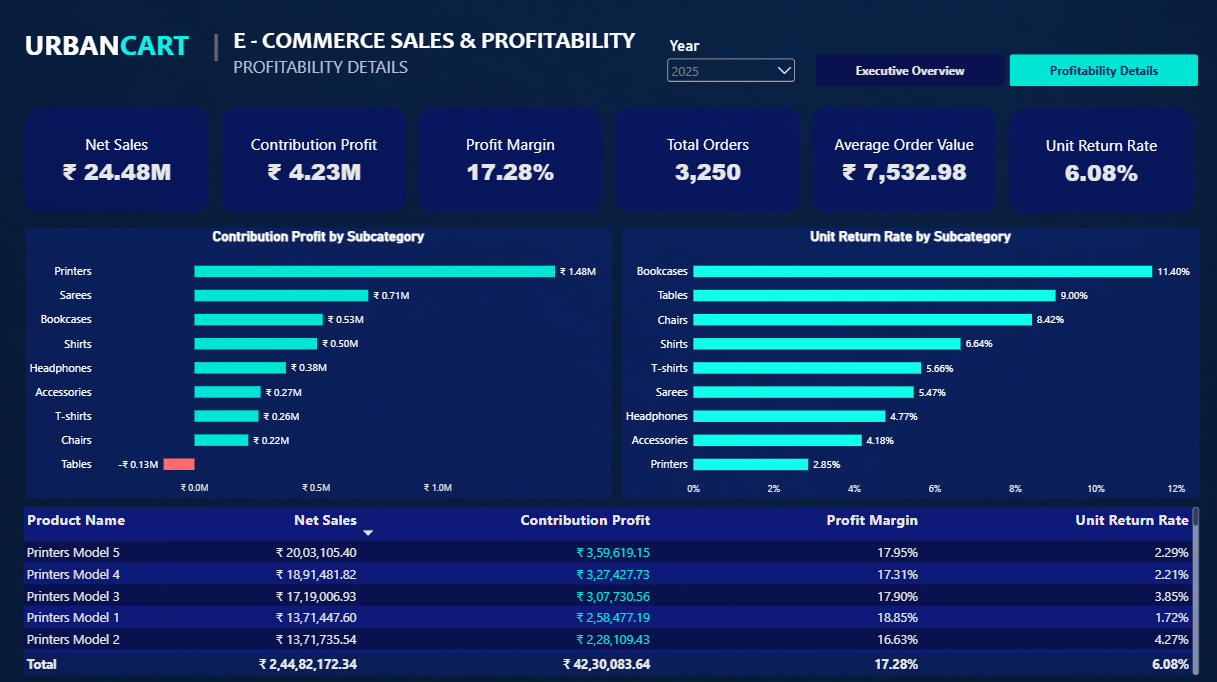

The page's visual inventory and layout, read from the dashboard file:
{"tool":"powerbi","page":{"name":"Profitability Details","canvas":[1920,1080],"ordinal":1},"visuals":[{"type":"textbox","box":[371.1,42.2,928.9,86.7],"z":0},{"type":"textbox","box":[42.2,42.2,362.2,128.9],"z":1000},{"type":"textbox","box":[370.9,89.1,400,81.8],"z":2000},{"type":"slicer","fields":{"Values":["Months.Year"]},"box":[1046.7,60,208.9,80],"z":3000},{"type":"cardVisual","fields":{"Data":["Sales.Net Sales"]},"box":[41.7,170.8,291.1,166.7],"z":4000},{"type":"cardVisual","fields":{"Data":["Sales.Contribution Profit"]},"box":[350.4,170.8,291.1,166.7],"z":5000},{"type":"cardVisual","fields":{"Data":["Sales.Profit Margin"]},"box":[659.2,170.8,291.1,166.7],"z":6000},{"type":"cardVisual","fields":{"Data":["Sales.Total Orders"]},"box":[967.9,170.8,291.1,166.7],"z":7000},{"type":"cardVisual","fields":{"Data":["Sales.Average Order Value"]},"box":[1276.7,170.8,291.1,166.7],"z":8000},{"type":"cardVisual","fields":{"Data":["Sales.Unit Return Rate"]},"box":[1587,172.9,291.1,166.7],"z":9000},{"type":"clusteredBarChart","fields":{"Category":["Products.Subcategory"],"Y":["Sales.Contribution Profit"]},"box":[45.5,360,918.2,423.6],"z":10000},{"type":"clusteredBarChart","title":"Unit Return Rate by Subcategory","fields":{"Category":["Products.Subcategory"],"Y":["Sales.Unit Return Rate"]},"box":[980,360,905.7,424],"z":11000},{"type":"tableEx","fields":{"Values":["Products.ProductName","Sales.Net Sales","Sales.Contribution Profit","Sales.Profit Margin","Sales.Unit Return Rate"]},"box":[41.8,798.2,1843.6,263.6],"z":12000},{"type":"pageNavigator","box":[1284.8,89.1,600,50],"z":13000}]}

Visuals, with their boxes in screenshot pixels (x1, y1, x2, y2), scaled from the page's 1920x1080 canvas onto the 1217x682 screenshot:
textbox: l=235, t=27, r=824, b=81
textbox: l=27, t=27, r=256, b=108
textbox: l=235, t=56, r=489, b=108
slicer - Months.Year: l=663, t=38, r=796, b=88
cardVisual - Sales.Net Sales: l=26, t=108, r=211, b=213
cardVisual - Sales.Contribution Profit: l=222, t=108, r=407, b=213
cardVisual - Sales.Profit Margin: l=418, t=108, r=602, b=213
cardVisual - Sales.Total Orders: l=614, t=108, r=798, b=213
cardVisual - Sales.Average Order Value: l=809, t=108, r=994, b=213
cardVisual - Sales.Unit Return Rate: l=1006, t=109, r=1190, b=214
clusteredBarChart - Products.Subcategory x Sales.Contribution Profit: l=29, t=227, r=611, b=495
"Unit Return Rate by Subcategory" clusteredBarChart: l=621, t=227, r=1195, b=495
tableEx - Products.ProductName x Sales.Net Sales: l=26, t=504, r=1195, b=671
pageNavigator: l=814, t=56, r=1195, b=88
